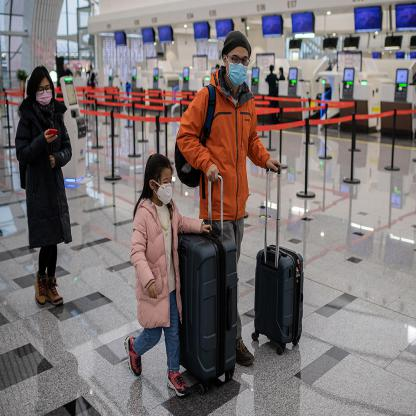Wearing_Mask: (155, 164, 173, 208), (227, 50, 248, 84), (33, 76, 53, 106)
